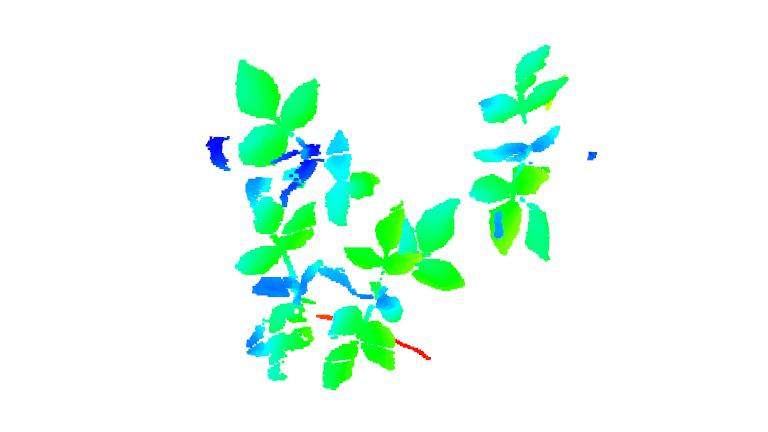mungbean: (317, 194, 461, 391), (230, 63, 383, 228), (468, 39, 573, 260), (229, 174, 326, 384)
